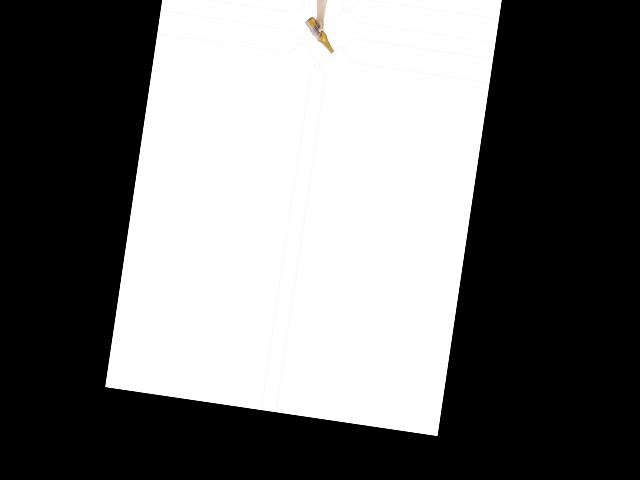beer: (300, 15, 338, 53)
